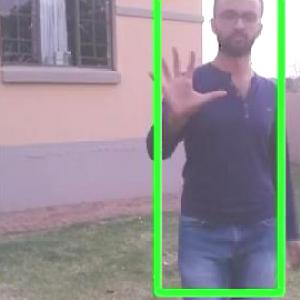follow_hand: (144, 40, 228, 114)
